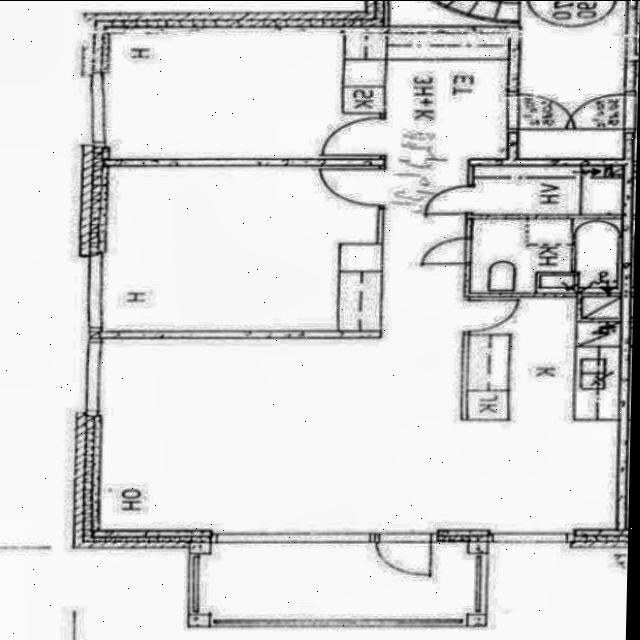room: (104, 167, 380, 331), (105, 27, 383, 157), (472, 216, 622, 293), (474, 165, 622, 213)
